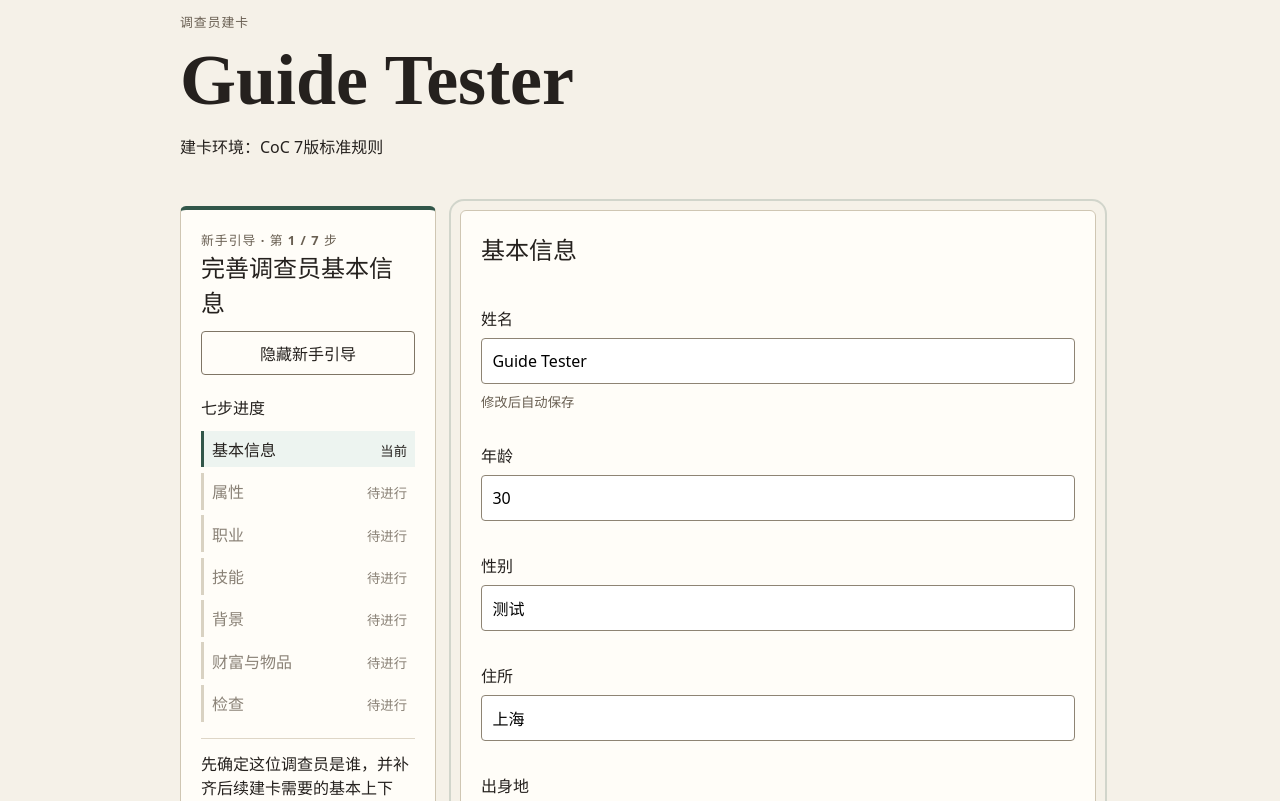
Test: CharacterEditorPage guided creation integration › opens and toggles the guide with zero Character, Session, or KPPreset writes
Expected: the list item "基本信息 当前" is shown, x1=201 y1=431 x2=415 y2=467
Click the button with class "creation-guide-toggle" at (308, 353), box x1=201 y1=331 x2=415 y2=375
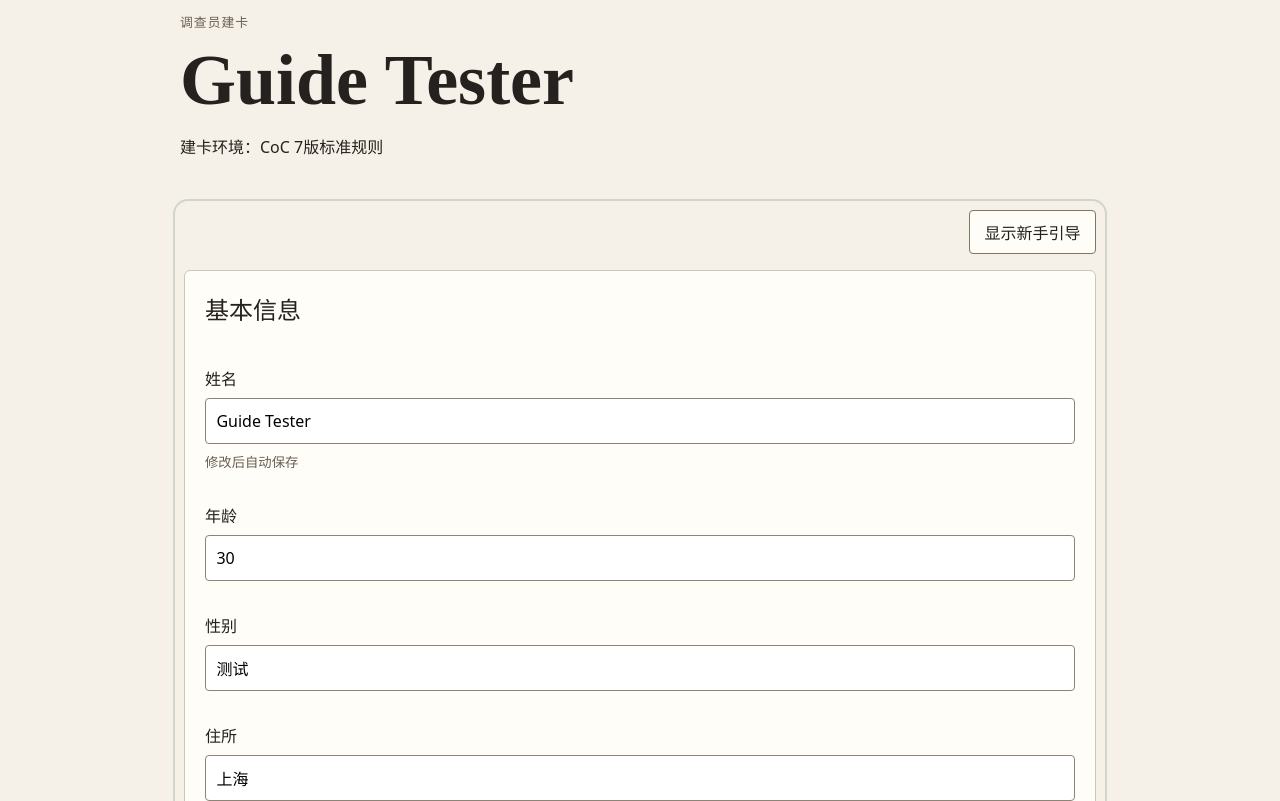
Expected: the button with class "creation-guide-toggle" reads "显示新手引导"
Expected: the button with class "creation-guide-toggle" is collapsed
Click the button with class "creation-guide-toggle" at (1033, 232), box x1=969 y1=210 x2=1096 y2=254
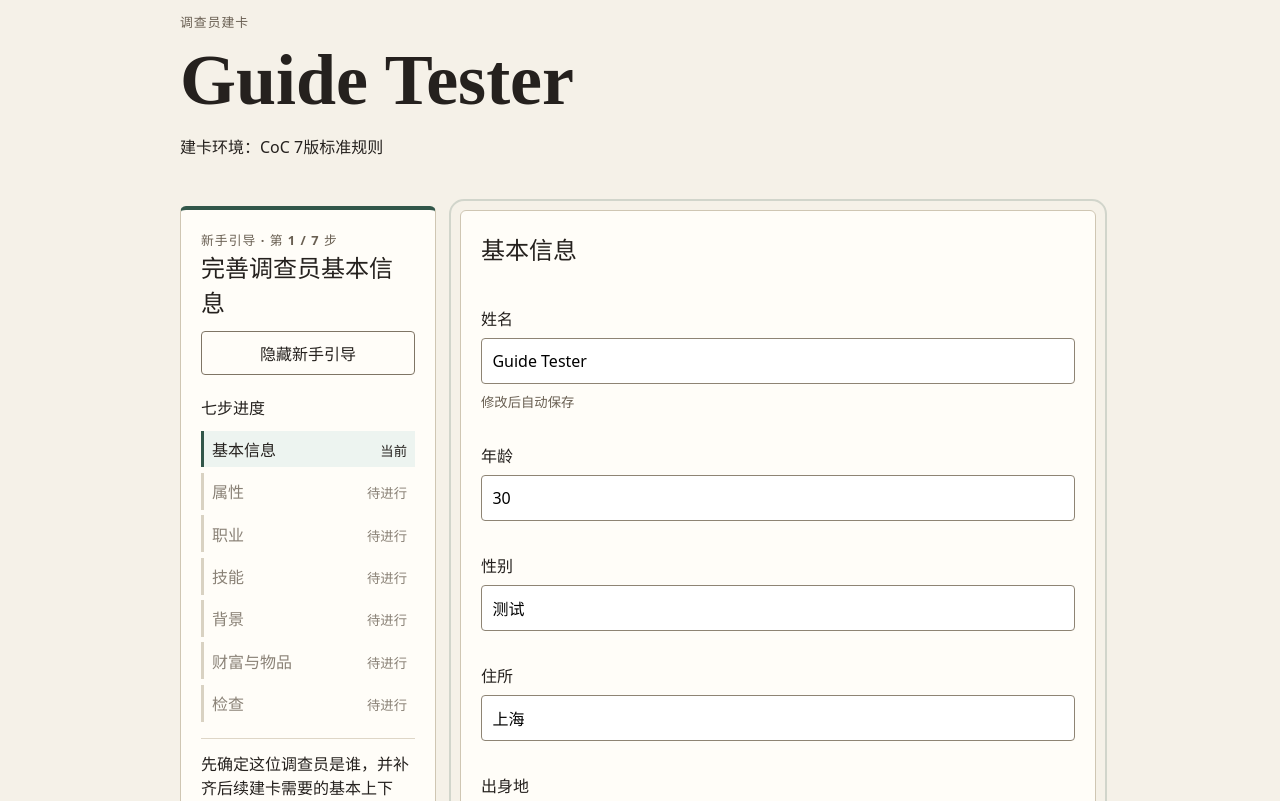
Expected: the heading "完善调查员基本信息" is shown, x1=201 y1=249 x2=415 y2=319
Expected: the element with class "creation-guide-progress" is shown, x1=201 y1=395 x2=415 y2=739
